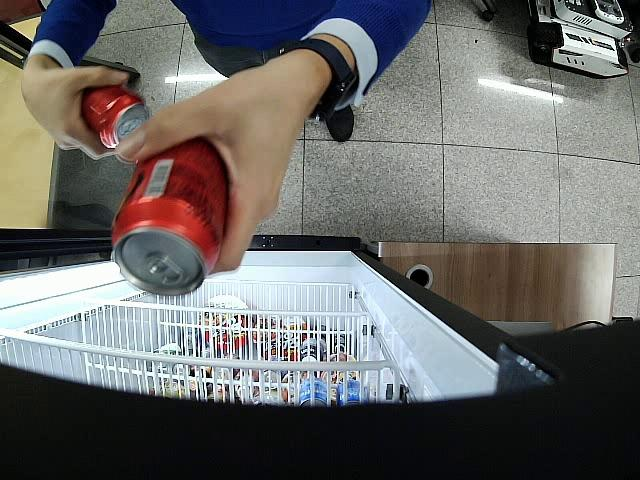00_hand: (115, 59, 324, 274), (21, 67, 127, 160)
11_cocaColaZero: (112, 136, 228, 297), (82, 86, 152, 149)
